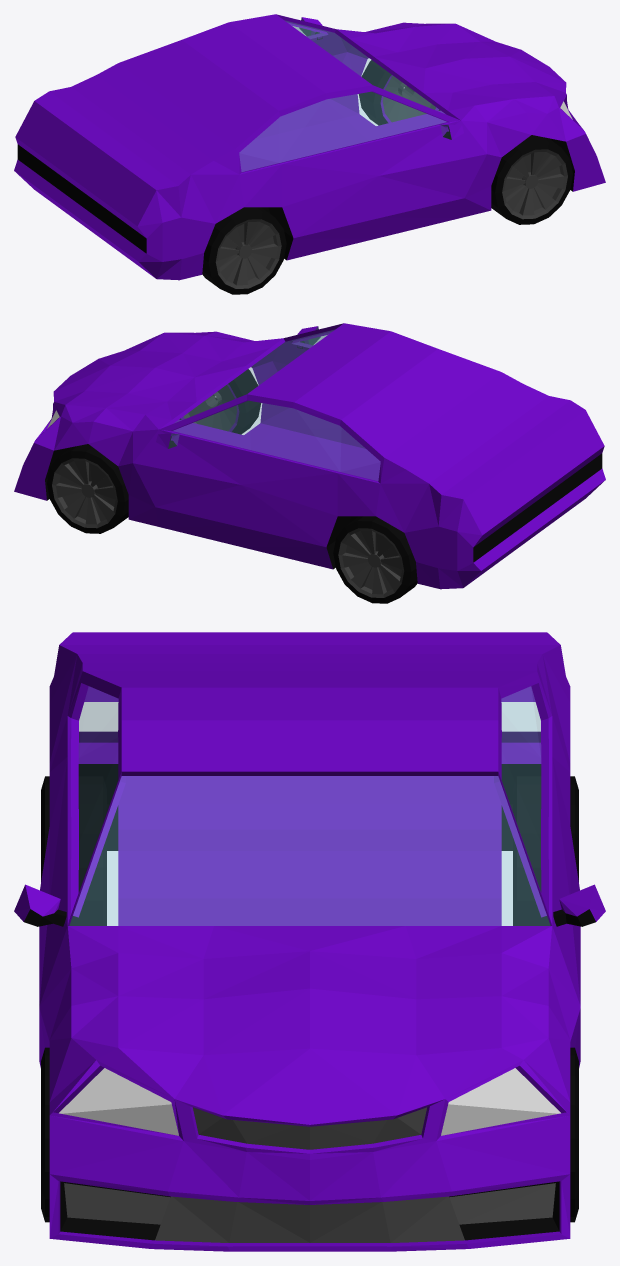
File: PurpleCar.obj
3 views of the same model, one above another, from view 1: azimuth 30°, elevation 25°; view 2: azimuth 150°, elevation 25°; view 3: azimuth 270°, elevation 25° (orthographic). The views are drawn at different scales.
Parts seen in each view (by area): view 1: PurpleCar_Material.091, PurpleCar_Material.095, PurpleCar_Material.093, PurpleCar_Material.094; view 2: PurpleCar_Material.091, PurpleCar_Material.095, PurpleCar_Material.093, PurpleCar_Material.094; view 3: PurpleCar_Material.091, PurpleCar_Material.095, PurpleCar_Material.096, PurpleCar_Material.093, PurpleCar_Material.092.
Part boxes in pixels (x1,y1,x2,y2): PurpleCar_Material.091: (14, 14, 605, 280); PurpleCar_Material.095: (239, 18, 451, 171); PurpleCar_Material.093: (17, 28, 574, 294); PurpleCar_Material.094: (215, 76, 567, 288); PurpleCar_Material.091: (14, 323, 605, 589); PurpleCar_Material.095: (168, 327, 380, 480); PurpleCar_Material.093: (45, 337, 602, 603); PurpleCar_Material.094: (52, 385, 404, 597); PurpleCar_Material.091: (14, 632, 605, 1251); PurpleCar_Material.095: (69, 686, 550, 925); PurpleCar_Material.096: (64, 1107, 555, 1242); PurpleCar_Material.093: (24, 764, 595, 1240); PurpleCar_Material.092: (59, 1068, 560, 1135).
Bounding box in the file's own units: 4.14 × 1.35 × 2.3.
